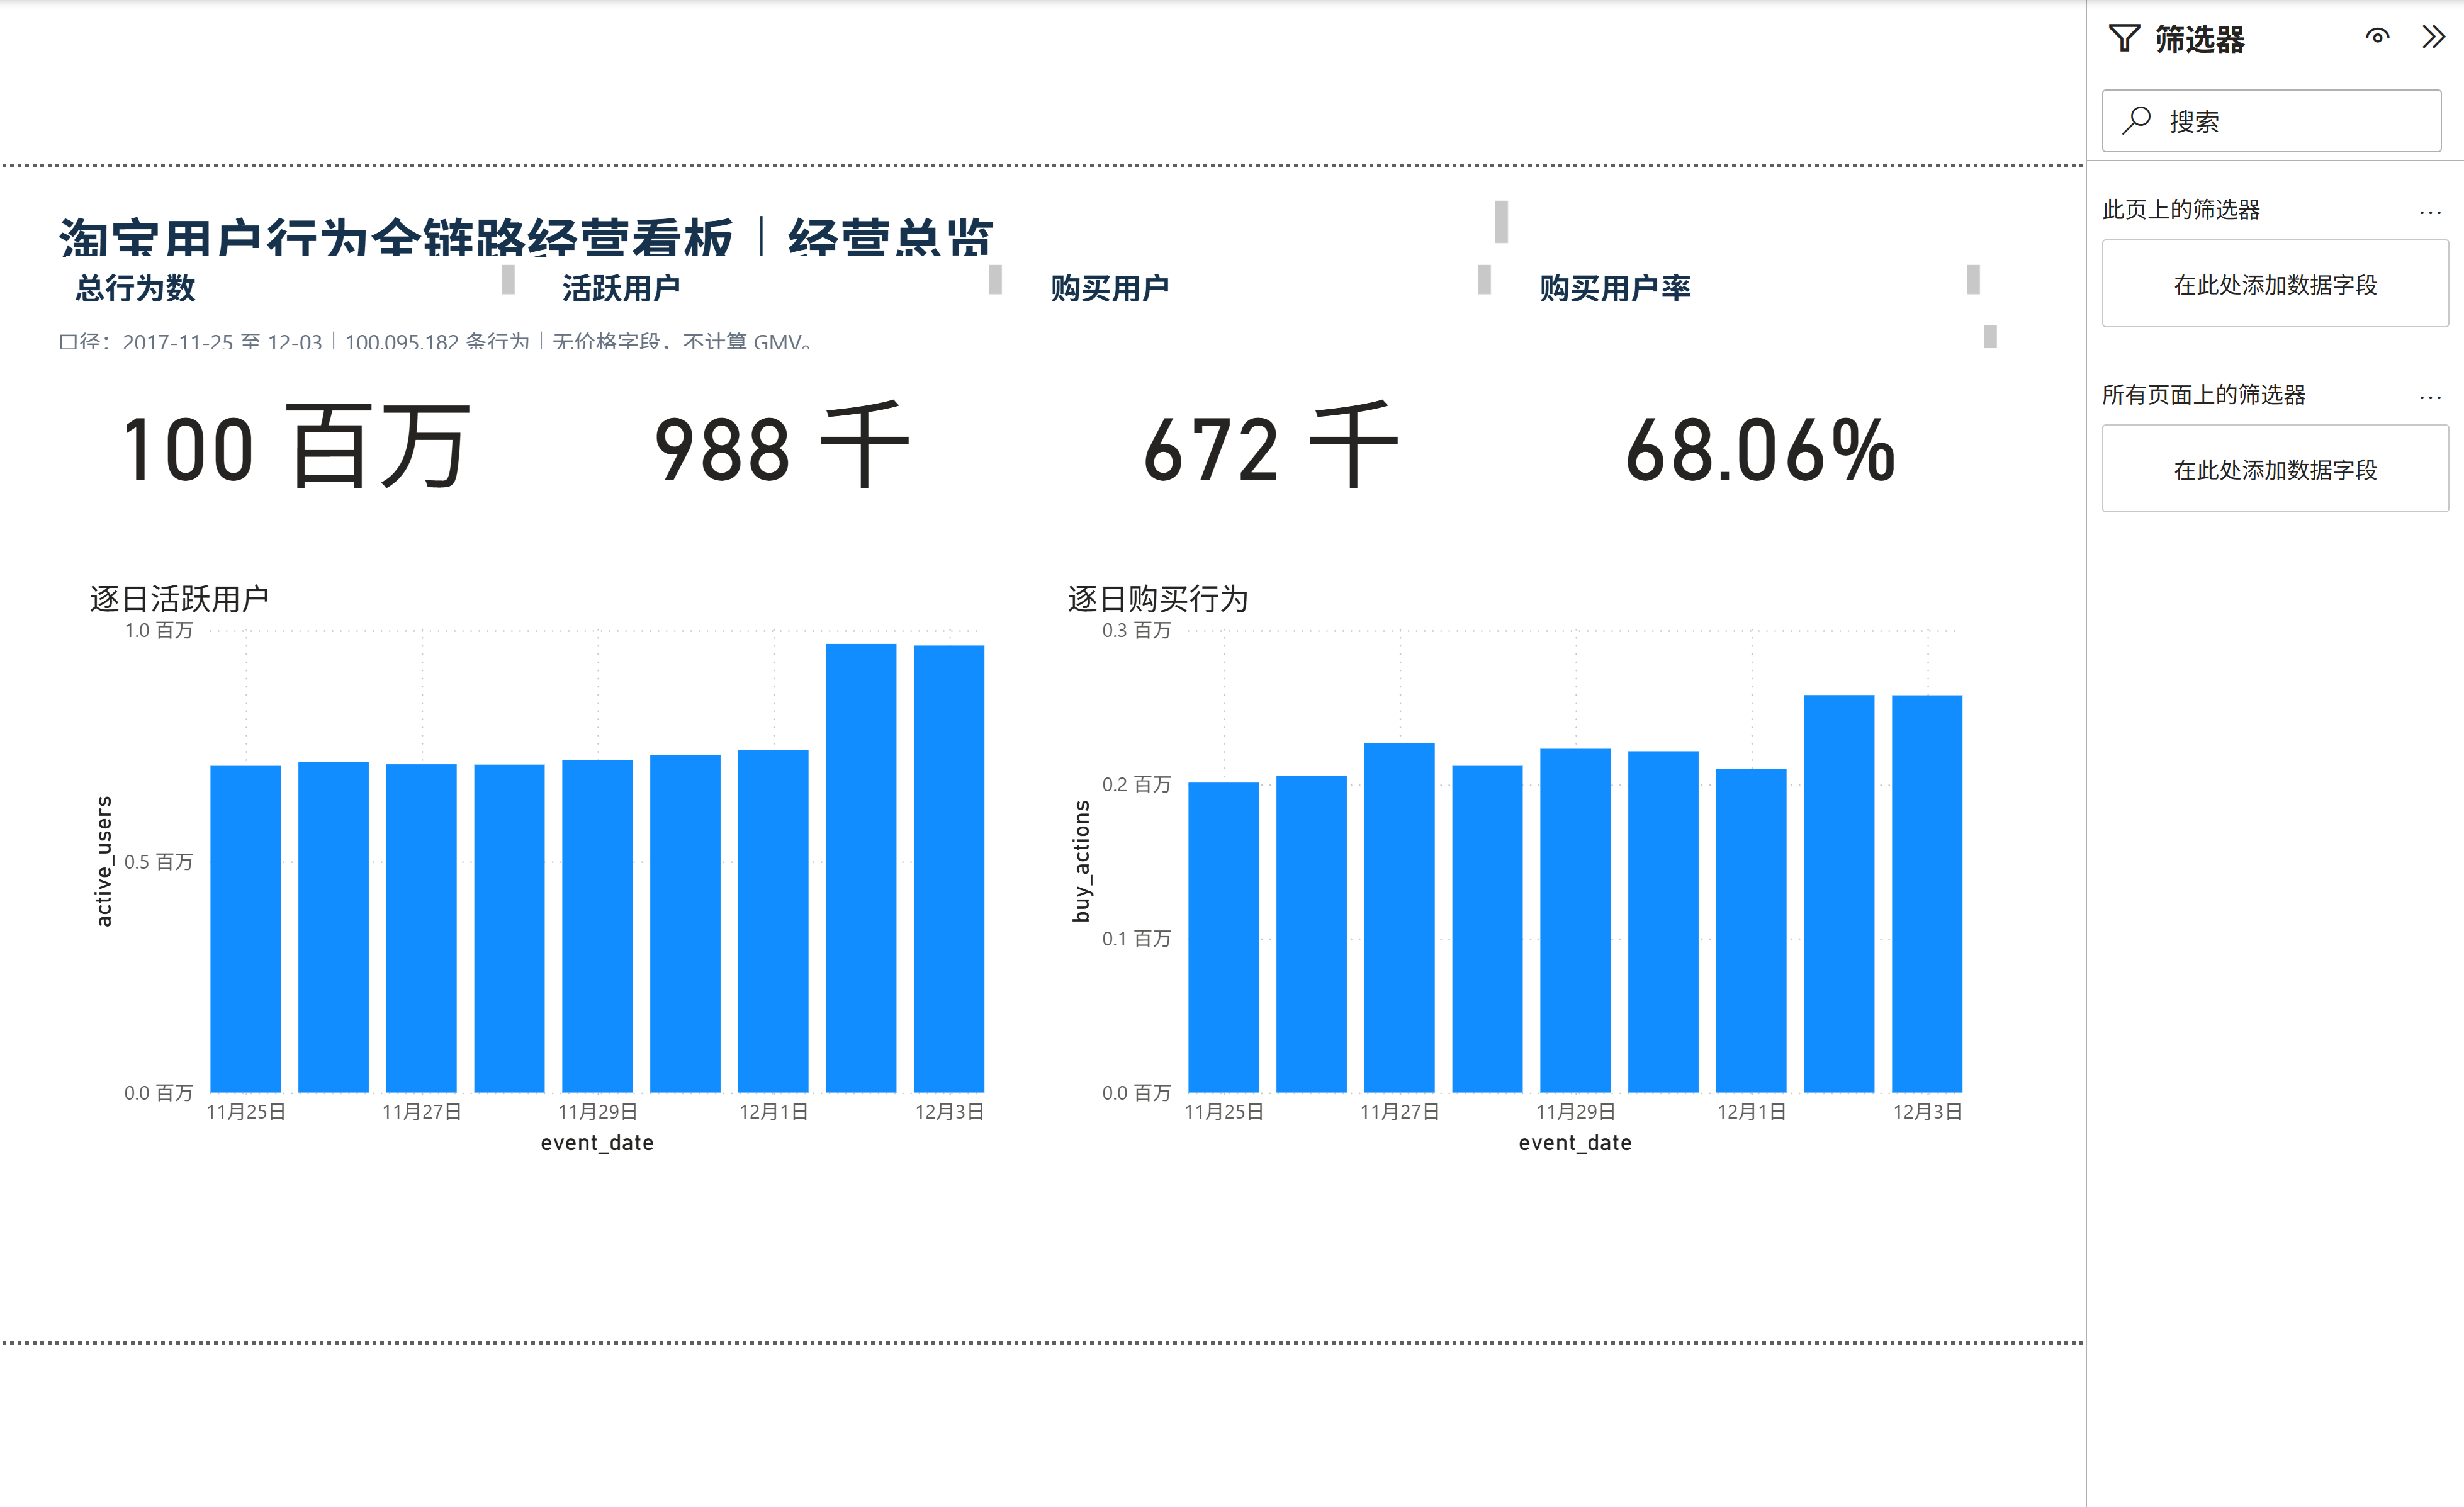

What the dashboard file says about the page in this screenshot:
{"tool":"powerbi","page":{"name":"经营总览","canvas":[1280,720],"ordinal":0},"visuals":[{"type":"textbox","box":[30,15,900,45],"z":1},{"type":"textbox","box":[40,55,280,32],"z":1},{"type":"textbox","box":[340,55,280,32],"z":1},{"type":"textbox","box":[640,55,280,32],"z":1},{"type":"textbox","box":[940,55,280,32],"z":1},{"type":"textbox","box":[30,92,1200,24],"z":1},{"type":"columnChart","title":"逐日活跃用户","fields":{"Category":["DailyMetrics.event_date"],"Y":["Sum(DailyMetrics.active_users)"]},"box":[50,250,560,360],"z":3},{"type":"columnChart","title":"逐日购买行为","fields":{"Category":["DailyMetrics.event_date"],"Y":["Sum(DailyMetrics.buy_actions)"]},"box":[650,250,560,360],"z":3},{"type":"card","fields":{"Values":["OverallKPI.行为总量"]},"box":[40,120,280,90],"z":5},{"type":"card","fields":{"Values":["OverallKPI.活跃用户"]},"box":[340,120,280,90],"z":5},{"type":"card","fields":{"Values":["OverallKPI.购买用户"]},"box":[640,120,280,90],"z":5},{"type":"card","fields":{"Values":["OverallKPI.购买用户率"]},"box":[940,120,280,90],"z":5}]}

Visuals, with their boxes on the page's 1280x720 design canvas (x1, y1, x2, y2). These are canvas units, not pixel positions in the 2464x1507 screenshot, which may show the page scaled, cropped or inside an application window:
textbox: <box>30,15,930,60</box>
textbox: <box>40,55,320,87</box>
textbox: <box>340,55,620,87</box>
textbox: <box>640,55,920,87</box>
textbox: <box>940,55,1220,87</box>
textbox: <box>30,92,1230,116</box>
"逐日活跃用户" columnChart: <box>50,250,610,610</box>
"逐日购买行为" columnChart: <box>650,250,1210,610</box>
card - OverallKPI.行为总量: <box>40,120,320,210</box>
card - OverallKPI.活跃用户: <box>340,120,620,210</box>
card - OverallKPI.购买用户: <box>640,120,920,210</box>
card - OverallKPI.购买用户率: <box>940,120,1220,210</box>
